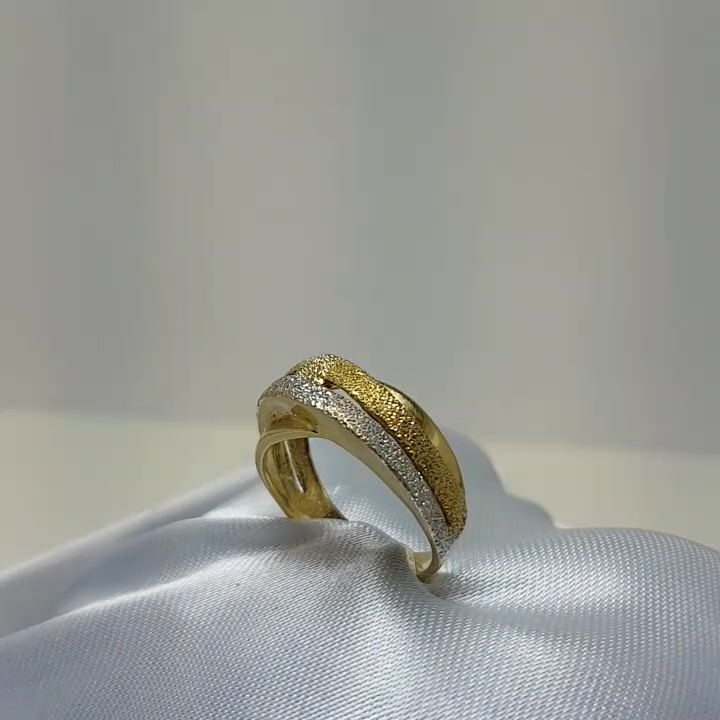Ring 5: (241, 343, 472, 600)
